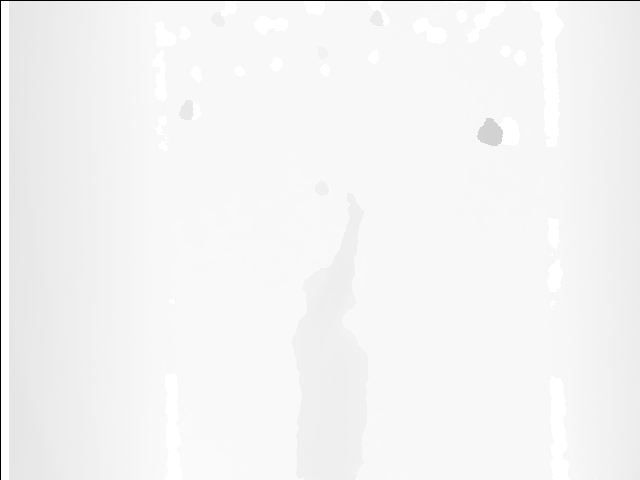hand: (344, 192, 366, 230)
